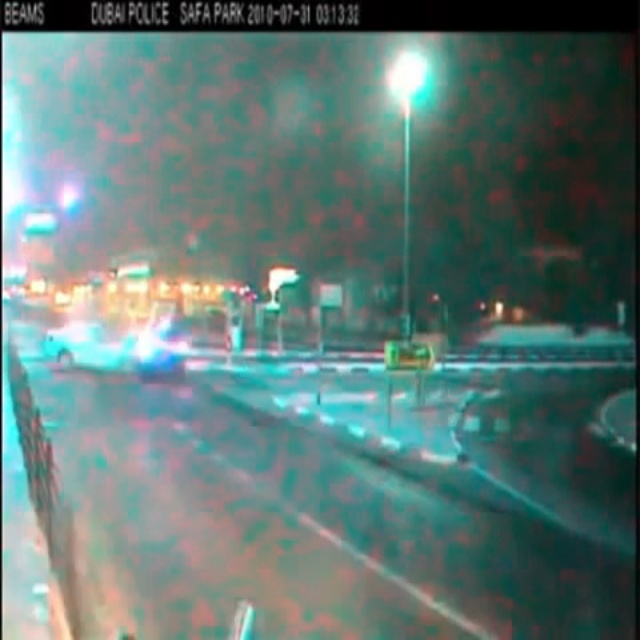acc: (29, 308, 196, 385)
